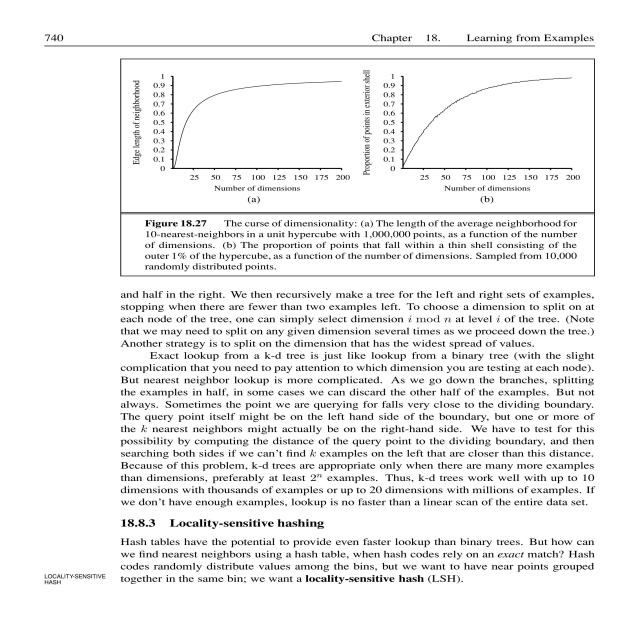diagram: (125, 56, 601, 274)
